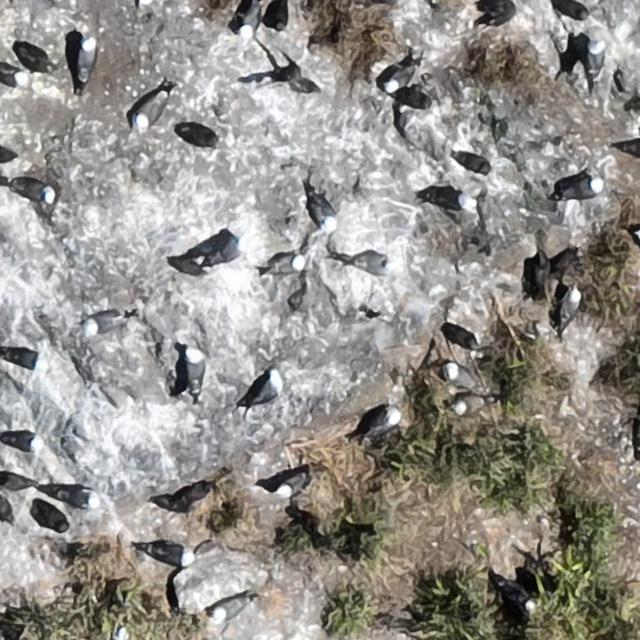umineko: (51, 486, 101, 509), (422, 188, 468, 209), (135, 93, 162, 126), (498, 581, 532, 607), (10, 180, 52, 201), (148, 545, 189, 565), (368, 410, 400, 434), (78, 37, 96, 79), (351, 255, 390, 274), (186, 349, 205, 387), (312, 196, 334, 228), (567, 180, 602, 200), (86, 312, 119, 332), (266, 256, 302, 274), (240, 5, 259, 38), (254, 377, 278, 403), (278, 474, 306, 496), (214, 598, 244, 618), (387, 67, 412, 91), (445, 364, 470, 388), (5, 349, 40, 366), (7, 434, 41, 451), (563, 288, 582, 318), (0, 66, 27, 86), (455, 397, 484, 415), (587, 41, 603, 73), (116, 627, 129, 639)
